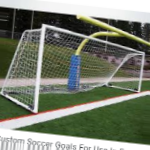goals: (1, 21, 146, 113)
